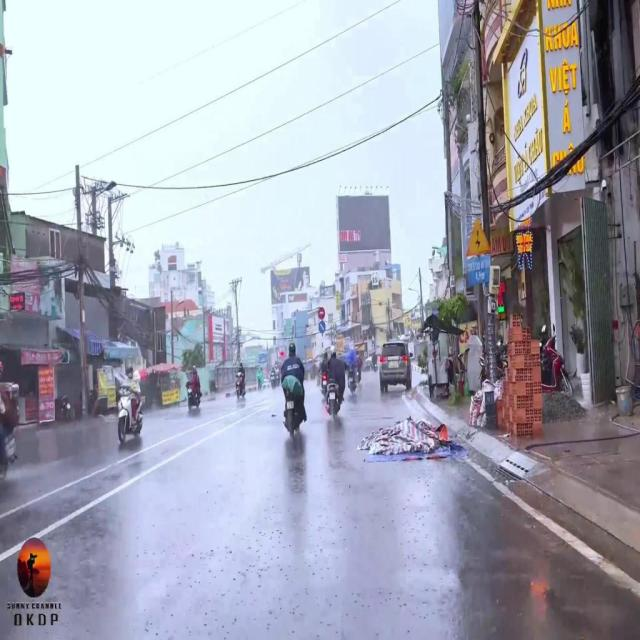cam_xe_di_nguoc_chieu: (318, 305, 326, 321)
huong_phai_di_vuot_chuong_ngai_vat_phai: (318, 319, 326, 334)
khac: (465, 215, 492, 257), (466, 256, 492, 288)
